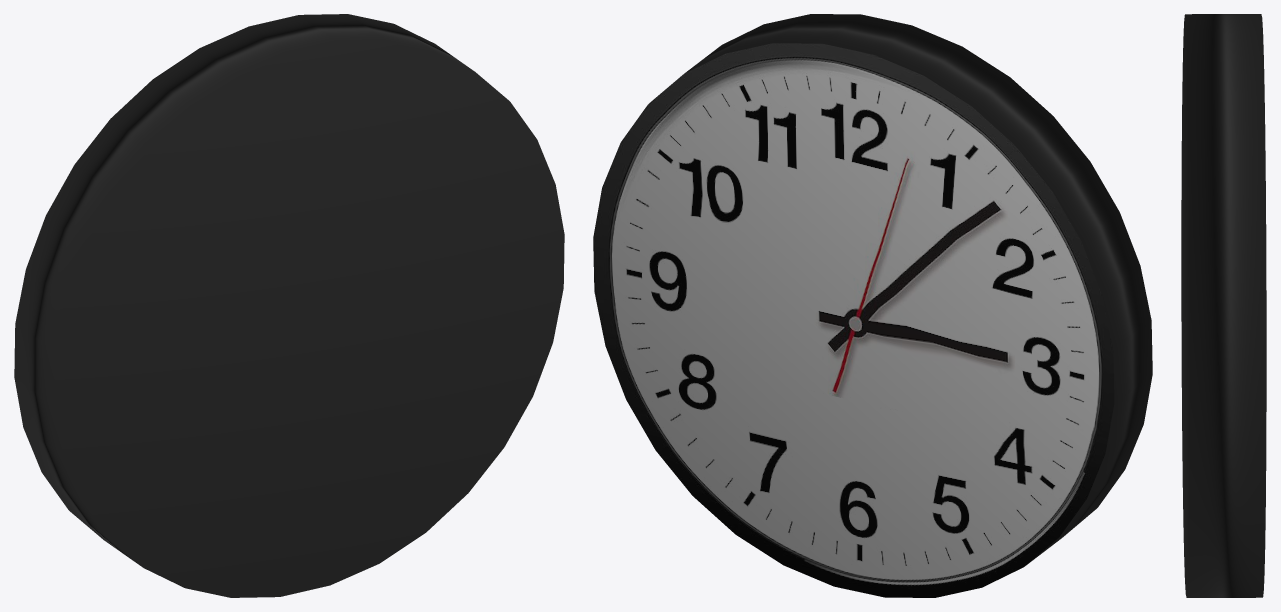
File: clock.fbx
3 renders of one model, left to right at view 1: azimuth 30°, elevation 25°; view 2: azimuth 150°, elevation 25°; view 3: azimuth 270°, elevation 25°, orthographic. The views are drawn at different scales.
Parts seen in each view (by area): view 1: Cylinder; view 2: Cylinder; view 3: Cylinder.
Part boxes in pixels (x1,y1,x2,y2): Cylinder: [14, 14, 564, 597]; Cylinder: [593, 14, 1152, 597]; Cylinder: [1181, 14, 1266, 597].
Bounding box in the file's own units: 97.12 × 97.28 × 14.22.
